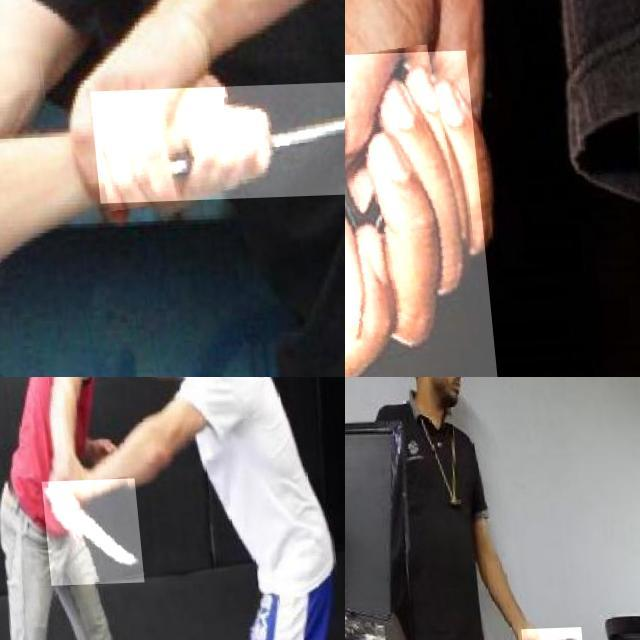-: (345, 53, 544, 377), (83, 84, 345, 205), (36, 481, 136, 587), (511, 629, 574, 640)
